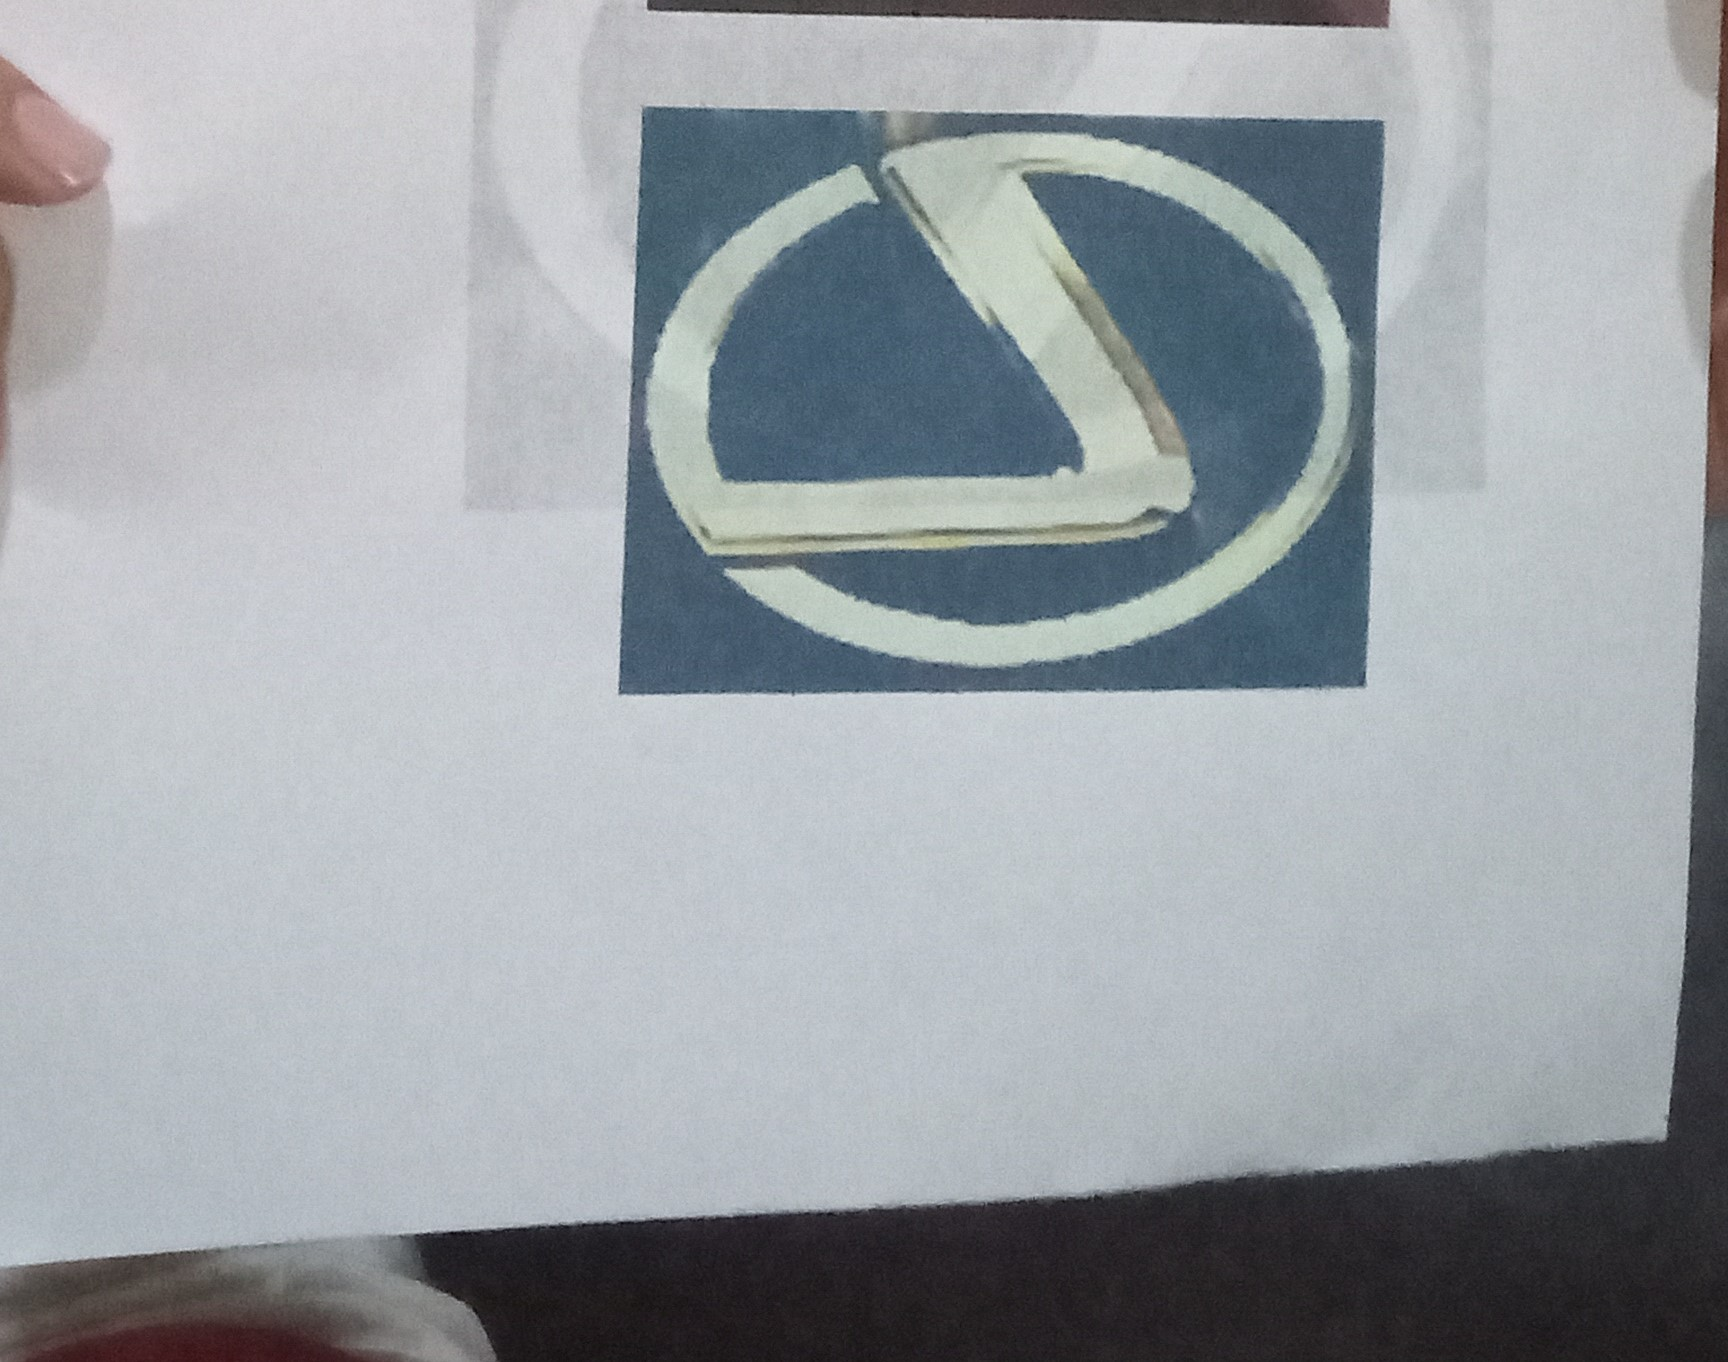Lexus: (644, 114, 1358, 694)
